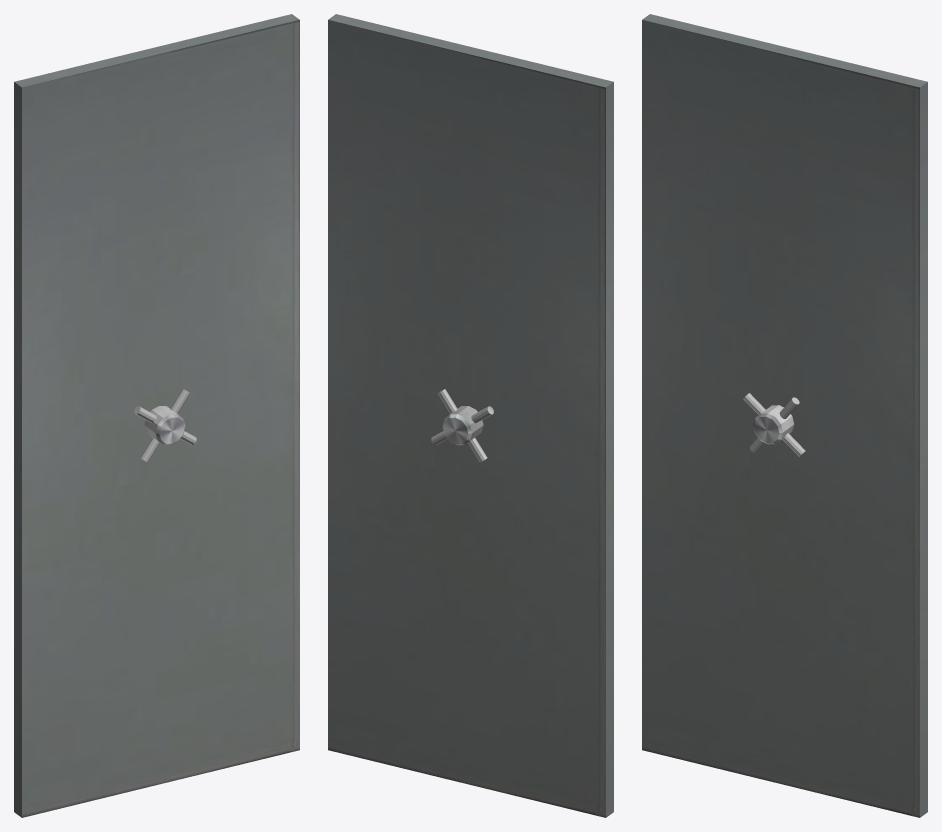
File: Door_cold.fbx
The picture shows the model from 3 angles, left to right: view 1: azimuth 30°, elevation 25°; view 2: azimuth 150°, elevation 25°; view 3: azimuth 330°, elevation 25°; orthographic projection.
Visible parts, largest first — view 1: porte_basique, Cylinder; view 2: porte_basique, Cylinder; view 3: porte_basique, Cylinder.
Part boxes in pixels (box(x1,y1,x2,y2)): porte_basique: box(14, 14, 299, 817); Cylinder: box(134, 389, 196, 462); porte_basique: box(328, 14, 613, 817); Cylinder: box(431, 389, 493, 462); porte_basique: box(642, 14, 927, 817); Cylinder: box(743, 393, 805, 457).
Size of the model in its own units: 80.95 by 203 by 16.93.
